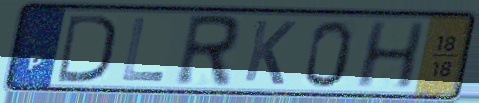0: (302, 18, 358, 90)
D: (55, 12, 118, 84)
H: (352, 20, 429, 91)
K: (240, 17, 299, 88)
L: (119, 16, 167, 84)
R: (171, 13, 243, 90)
